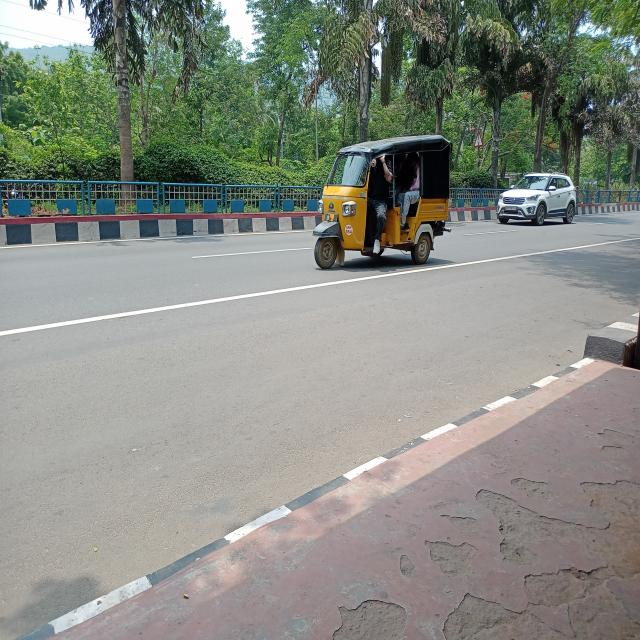car: (492, 163, 600, 240)
